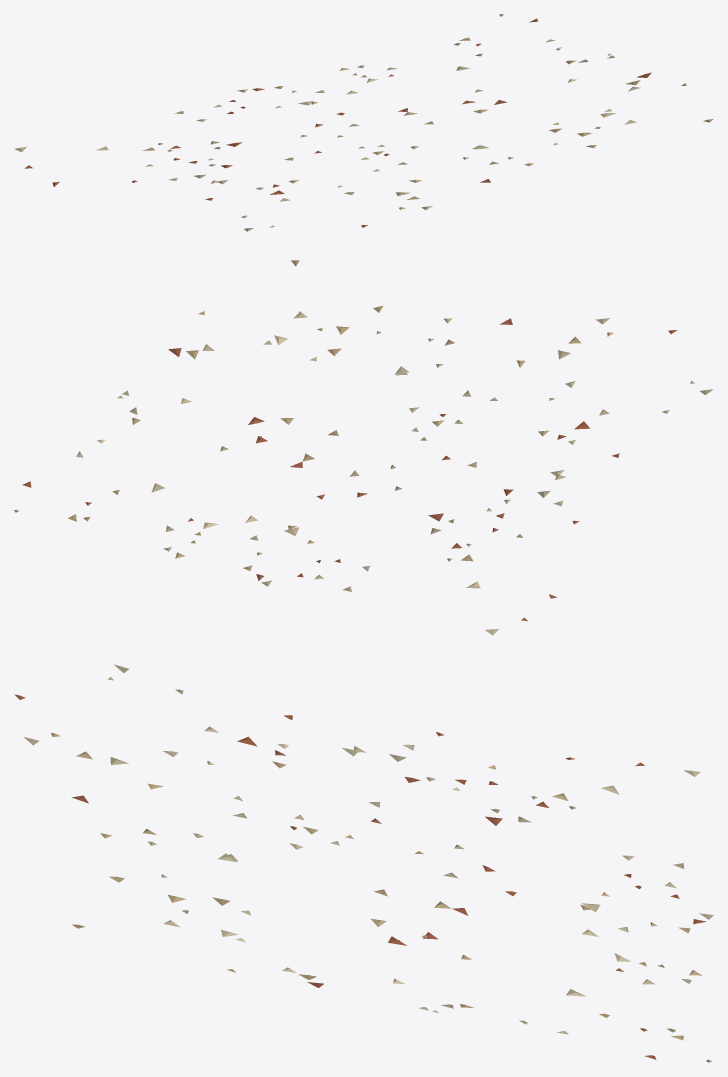
The model's file is dam_corkscrew_step_detail2.glb.
3 renders of one model, top to bottom at view 1: azimuth 30°, elevation 25°; view 2: azimuth 150°, elevation 25°; view 3: azimuth 270°, elevation 25°, orthographic. The views are drawn at different scales.
Visible parts, largest first — view 1: dam_corkscrew_step_detail2; view 2: dam_corkscrew_step_detail2; view 3: dam_corkscrew_step_detail2.
Part boxes in pixels (<box>): dam_corkscrew_step_detail2: <box>14,14,713,231</box>; dam_corkscrew_step_detail2: <box>14,260,713,635</box>; dam_corkscrew_step_detail2: <box>14,664,713,1062</box>.
Size of the model in its own units: 21.08 by 3.95 by 19.38.
